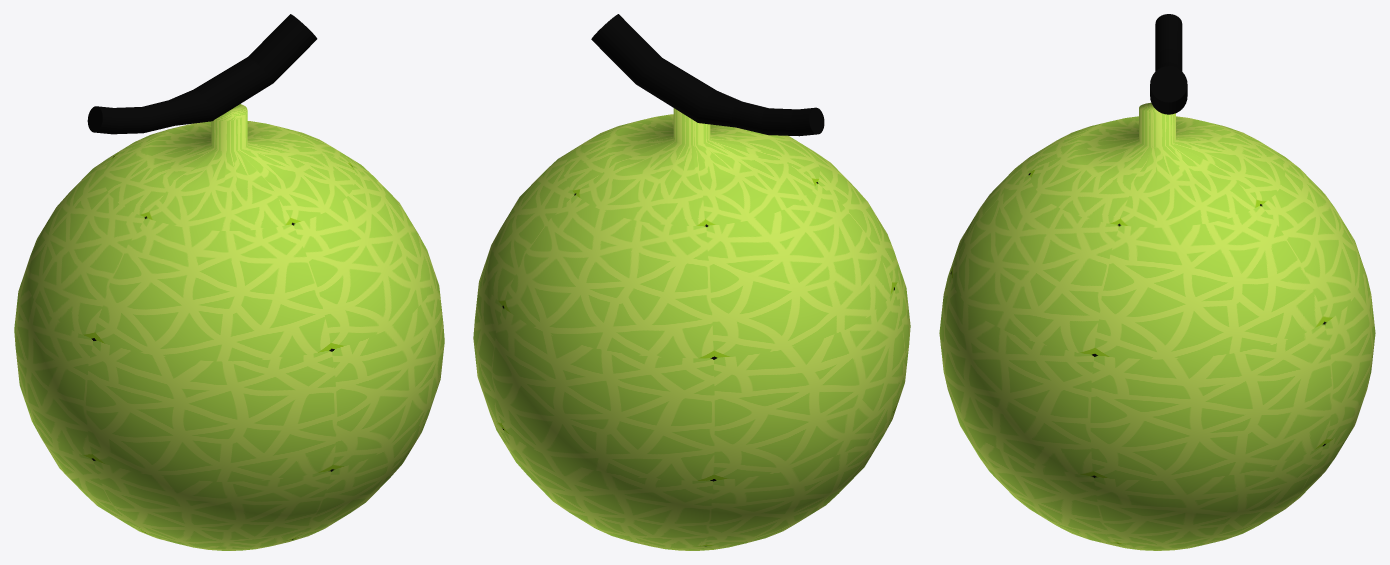
Rendered from melon.fbx.
The picture shows the model from 3 angles, left to right: view 1: azimuth 30°, elevation 25°; view 2: azimuth 150°, elevation 25°; view 3: azimuth 270°, elevation 25°; orthographic projection.
Parts seen in each view (by area): view 1: 球; view 2: 球; view 3: 球.
Part boxes in pixels (box(x1,y1,x2,y2)): 球: box(14, 14, 444, 550); 球: box(473, 14, 910, 550); 球: box(939, 14, 1375, 550).
Bounding box in the file's own units: 680 × 852 × 680.
1 material, 1 textured.
